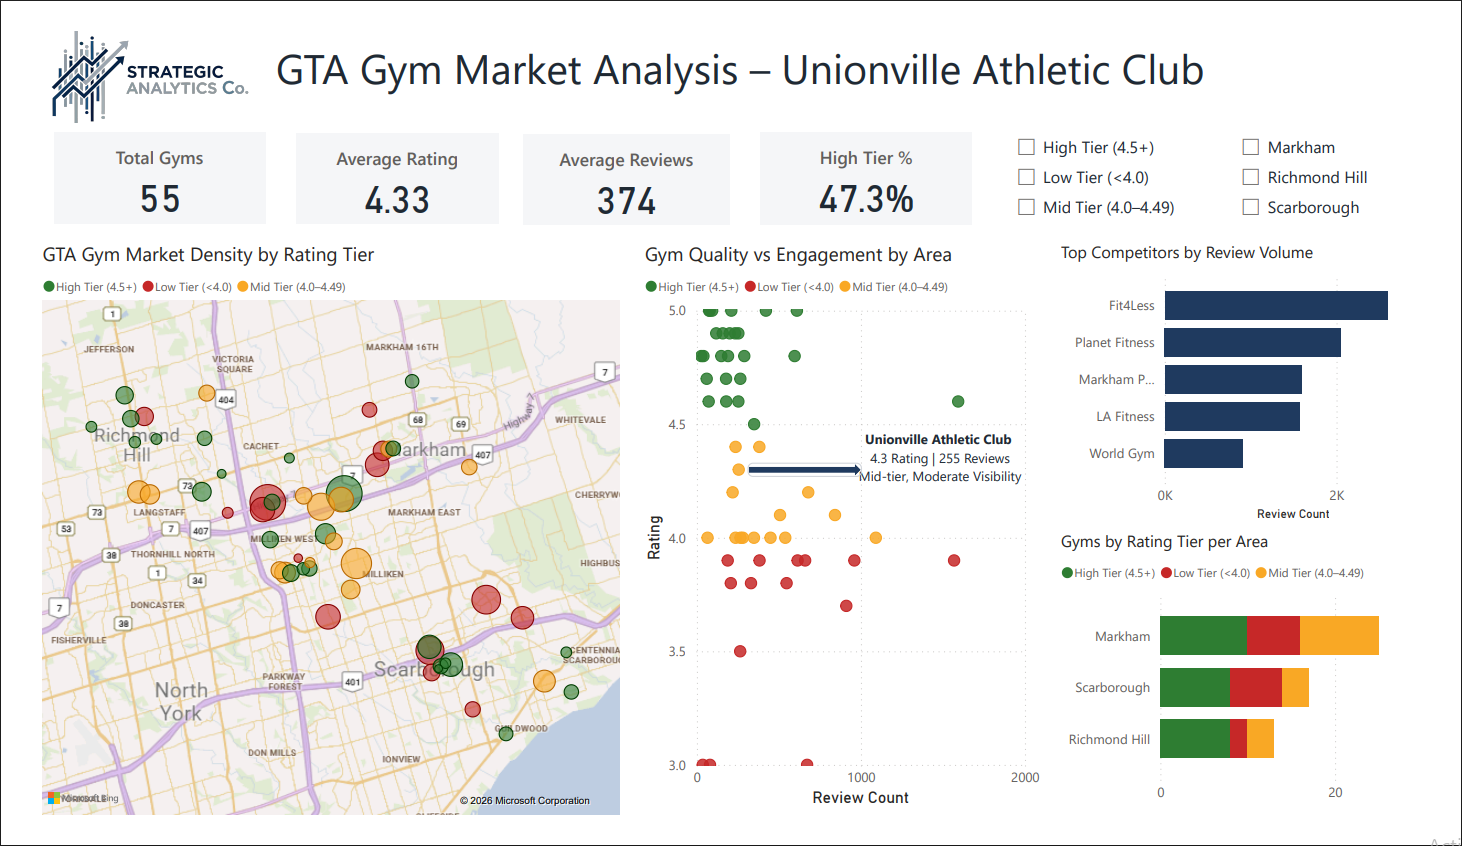

This screenshot's page, from the dashboard's own definition file:
{"tool":"powerbi","page":{"name":"GTA Gym Market Client Dashboard","canvas":[1280,720],"ordinal":0},"visuals":[{"type":"textbox","box":[222.5,7.1,878.4,84.2],"z":0},{"type":"slicer","fields":{"Values":["vw_gyms_analysis.area"]},"box":[1092.1,91.3,187.9,94],"z":1000},{"type":"slicer","fields":{"Values":["vw_gyms_analysis.rating_tier"]},"box":[888.2,91.3,203.9,94],"z":2000},{"type":"map","title":"GTA Gym Market Density by Rating Tier","fields":{"X":["vw_gyms_analysis.longitude"],"Y":["vw_gyms_analysis.latitude"],"Series":["vw_gyms_analysis.rating_tier"],"Size":["Sum(vw_gyms_analysis.review_count)"]},"box":[9.8,194.1,534.5,525.7],"z":3000},{"type":"scatterChart","title":"Gym Quality vs Engagement by Area","fields":{"X":["vw_gyms_analysis.review_count"],"Y":["vw_gyms_analysis.rating"],"Series":["vw_gyms_analysis.rating_tier"]},"box":[556.7,194.1,368.8,518.6],"z":4000},{"type":"barChart","title":"Gyms by Rating Tier per Area","fields":{"Category":["vw_gyms_analysis.area"],"Y":["CountNonNull(vw_gyms_analysis.place_id)"],"Series":["vw_gyms_analysis.rating_tier"]},"box":[935.2,457.4,344.8,255.3],"z":5000},{"type":"barChart","title":"Top Competitors by Review Volume","fields":{"Category":["vw_gyms_analysis.name"],"Y":["Sum(vw_gyms_analysis.review_count)"]},"box":[935.2,194.1,344.8,258.8],"z":6000},{"type":"cardVisual","fields":{"Data":["vw_gyms_analysis.Total Gyms"]},"box":[20,91,202,93],"z":7000},{"type":"cardVisual","fields":{"Data":["vw_gyms_analysis.High Tier %"]},"box":[662,91,202,94],"z":8000},{"type":"cardVisual","fields":{"Data":["vw_gyms_analysis.Average Reviews"]},"box":[446,93,198,92],"z":9000},{"type":"cardVisual","fields":{"Data":["vw_gyms_analysis.Average Rating"]},"box":[240,92,194,92],"z":10000},{"type":"textbox","box":[741.1,359.9,174.6,71.8],"z":11000},{"type":"shape","box":[655.1,396.2,103.7,12.4],"z":12000},{"type":"image","box":[9.8,0,205.7,92.2],"z":12001}]}

Visuals, with their boxes in screenshot pixels (x1, y1, x2, y2), scaled from the page's 1280x720 canvas onto the 1462x846 screenshot:
textbox: bbox=(254, 8, 1257, 107)
slicer - vw_gyms_analysis.area: bbox=(1247, 107, 1461, 218)
slicer - vw_gyms_analysis.rating_tier: bbox=(1014, 107, 1247, 218)
"GTA Gym Market Density by Rating Tier" map: bbox=(11, 228, 622, 845)
"Gym Quality vs Engagement by Area" scatterChart: bbox=(636, 228, 1057, 837)
"Gyms by Rating Tier per Area" barChart: bbox=(1068, 537, 1461, 837)
"Top Competitors by Review Volume" barChart: bbox=(1068, 228, 1461, 532)
cardVisual - vw_gyms_analysis.Total Gyms: bbox=(23, 107, 254, 216)
cardVisual - vw_gyms_analysis.High Tier %: bbox=(756, 107, 987, 217)
cardVisual - vw_gyms_analysis.Average Reviews: bbox=(509, 109, 736, 217)
cardVisual - vw_gyms_analysis.Average Rating: bbox=(274, 108, 496, 216)
textbox: bbox=(846, 423, 1046, 507)
shape: bbox=(748, 466, 867, 480)
image: bbox=(11, 0, 246, 108)
